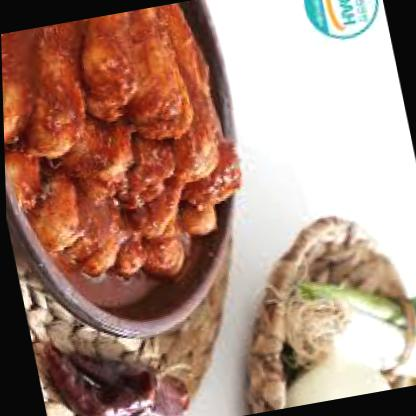chonggak Kimchi: (0, 0, 254, 291)
